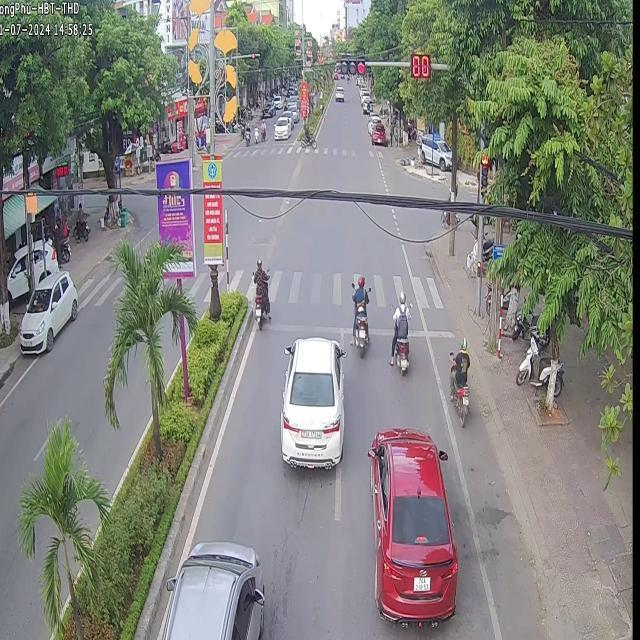car: (368, 438, 459, 636), (160, 540, 263, 638), (279, 336, 344, 467)
motobike: (444, 325, 468, 436), (390, 290, 411, 385), (347, 267, 366, 361), (250, 259, 269, 342)
red_light: (335, 51, 366, 76), (478, 154, 488, 187)
stop_line: (253, 321, 454, 336)
